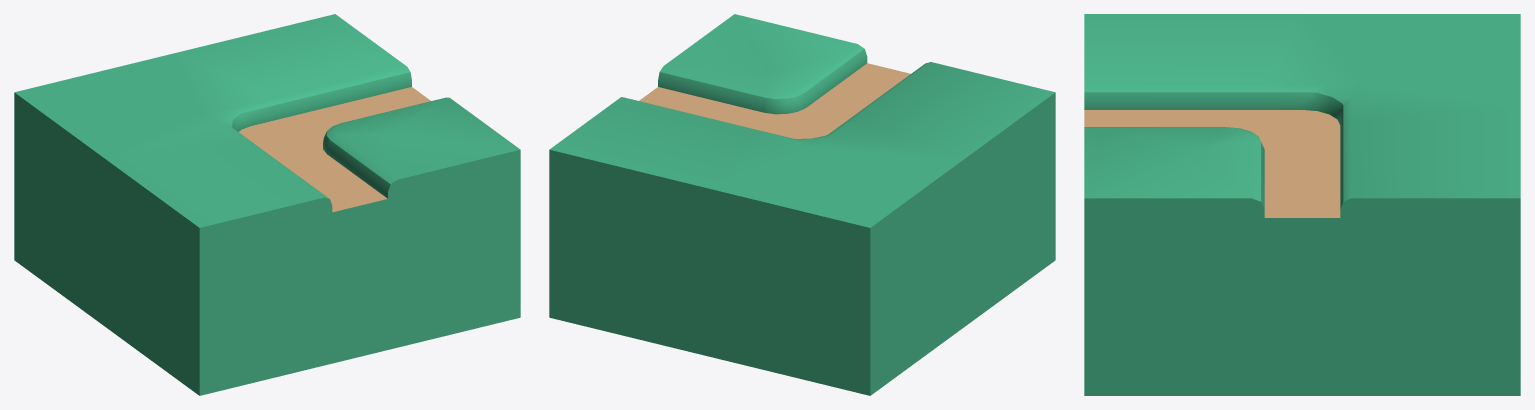
File: square_forest_roadC.glb
3 renders of one model, left to right at view 1: azimuth 30°, elevation 25°; view 2: azimuth 150°, elevation 25°; view 3: azimuth 270°, elevation 25°, orthographic. The views are drawn at different scales.
Visible parts, largest first — view 1: square_forest_roadC; view 2: square_forest_roadC; view 3: square_forest_roadC.
Part boxes in pixels (x1=…): square_forest_roadC: x1=14, y1=14, x2=520, y2=395; square_forest_roadC: x1=549, y1=14, x2=1055, y2=395; square_forest_roadC: x1=1084, y1=14, x2=1520, y2=395.
Size of the model in its own units: 2 by 1 by 2.
